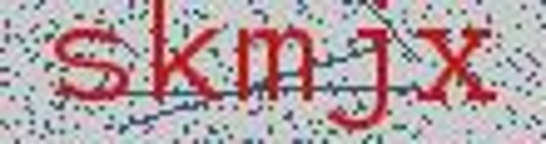j: (326, 2, 401, 137)
k: (141, 2, 226, 119)
m: (234, 20, 320, 112)
s: (49, 17, 131, 117)
x: (411, 17, 503, 127)
